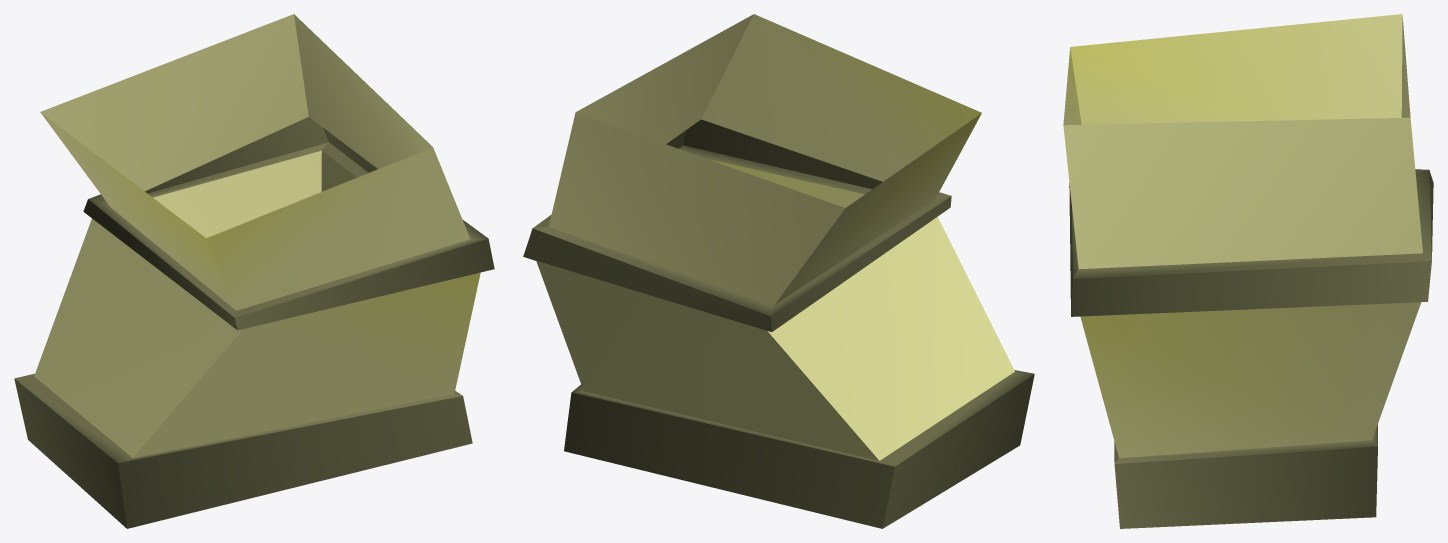
File: c_tower_body_square_ab.fbx
3 renders of one model, left to right at view 1: azimuth 30°, elevation 25°; view 2: azimuth 150°, elevation 25°; view 3: azimuth 270°, elevation 25°, orthographic. The views are drawn at different scales.
Visible parts, largest first — view 1: c_tower_body_square_ab; view 2: c_tower_body_square_ab; view 3: c_tower_body_square_ab.
Part boxes in pixels (x1=…): c_tower_body_square_ab: x1=14, y1=14, x2=494, y2=528; c_tower_body_square_ab: x1=523, y1=14, x2=1034, y2=528; c_tower_body_square_ab: x1=1063, y1=14, x2=1433, y2=528.
Bounding box in the file's own units: 8.1 × 7.46 × 6.5.
